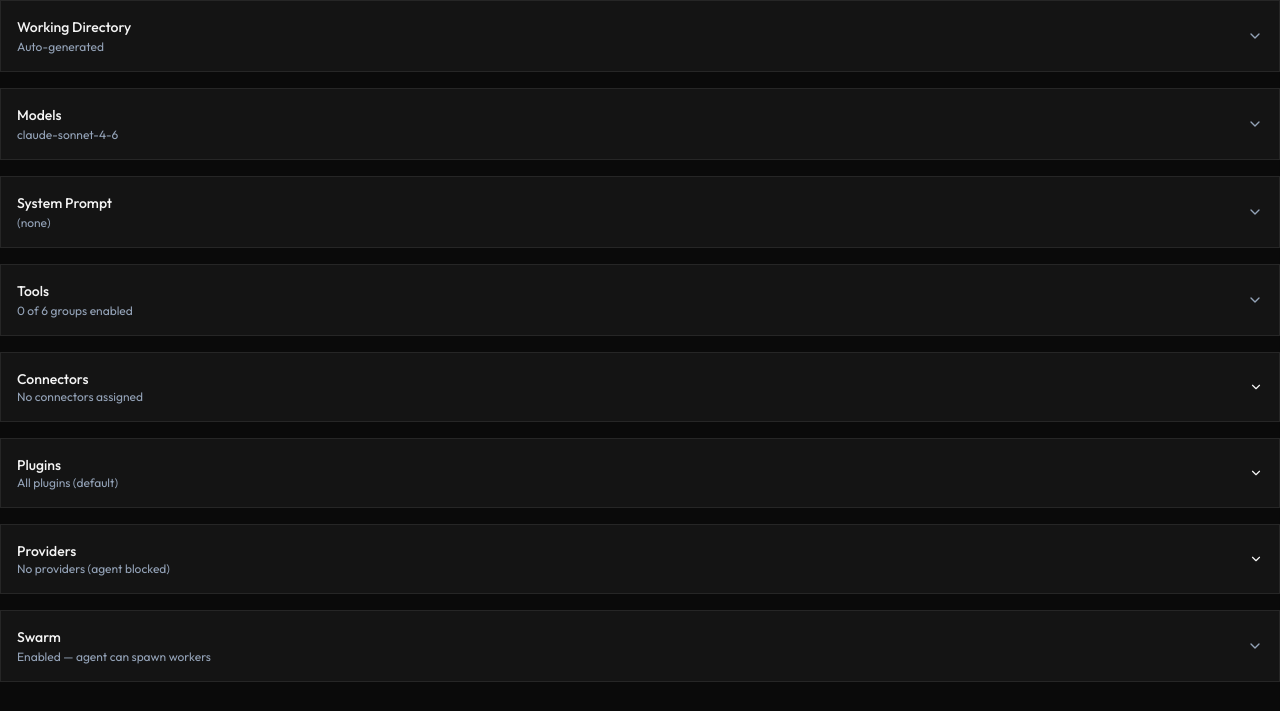
AgentConfigTab providers card › renders an API-set `providers: []` as "No providers (agent blocked)", not "All providers"
Expected: the text "No providers (agent blocked)" is shown, [17,561,170,577]
Click the button "Providers No providers (agent blocked)": (47, 551) [1,525,1279,593]
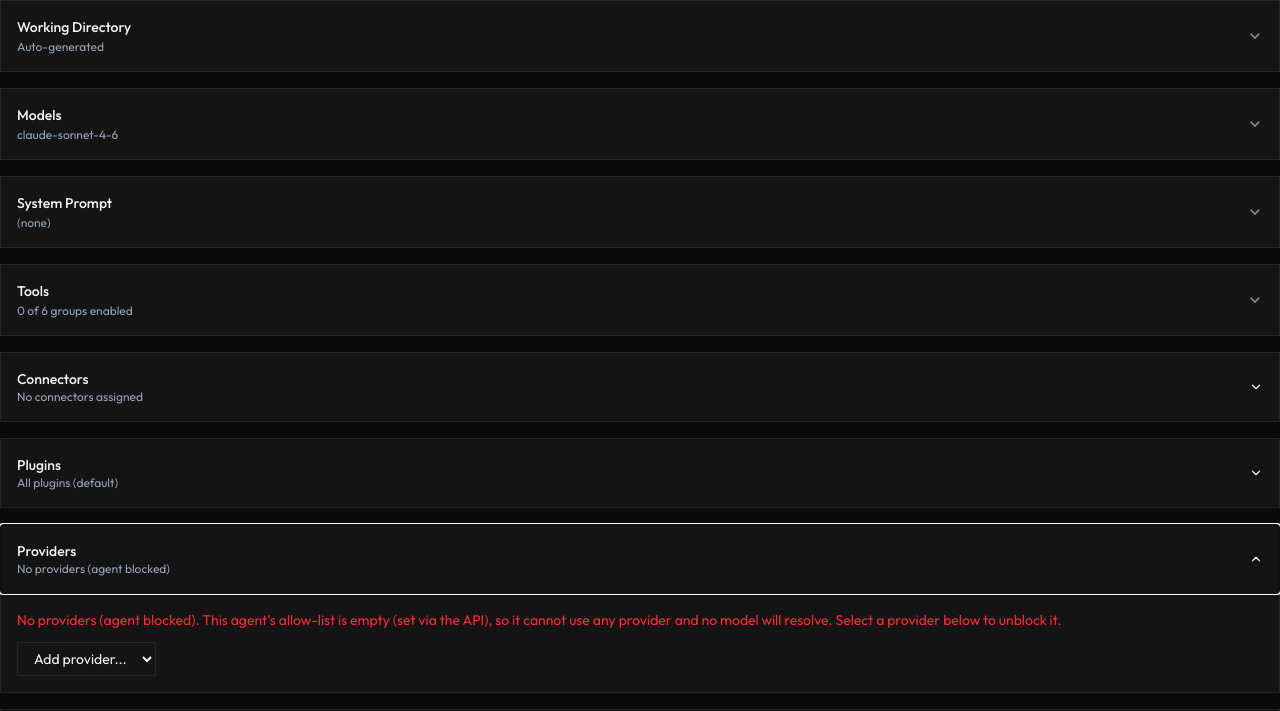
Expected: the text "No providers (agent blocked). This agent's allow-list is empty" is shown, [17,611,1062,629]
